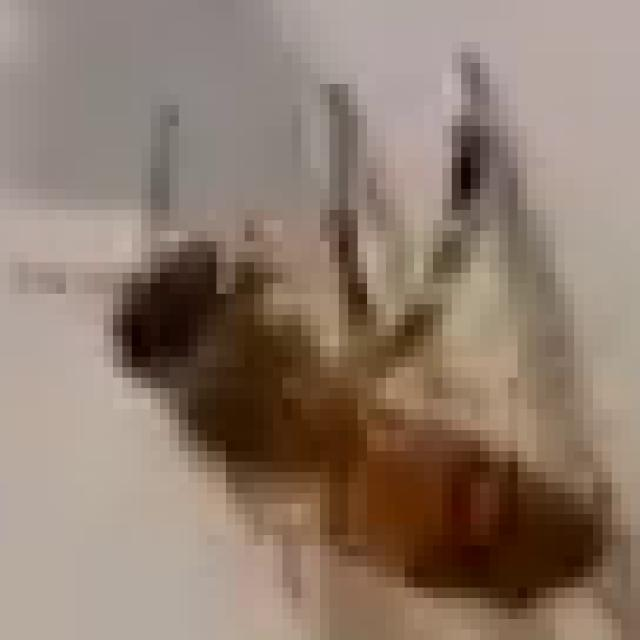honeybee: (108, 156, 604, 604)
